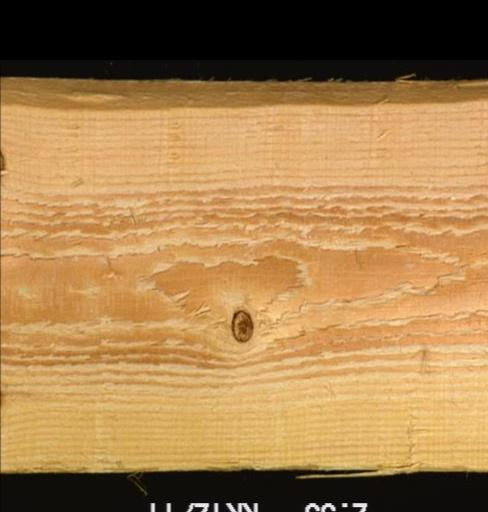dry_knot: (229, 308, 256, 344)
wave: (0, 73, 486, 114)
